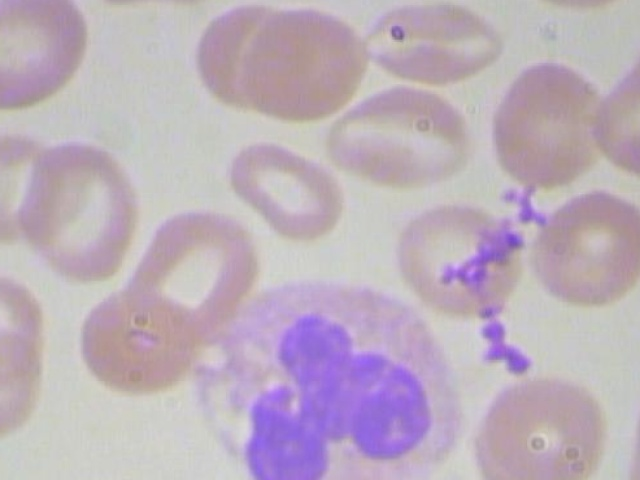RBC: (11, 138, 148, 286), (313, 76, 478, 191), (239, 2, 372, 130), (394, 193, 524, 321), (481, 57, 611, 185), (76, 277, 206, 405), (224, 128, 350, 252), (475, 371, 604, 480), (531, 183, 640, 311), (359, 0, 515, 86), (0, 0, 94, 117), (0, 121, 73, 249), (585, 54, 640, 180), (497, 0, 640, 17), (80, 0, 246, 8)
WBC: (174, 267, 472, 480)
